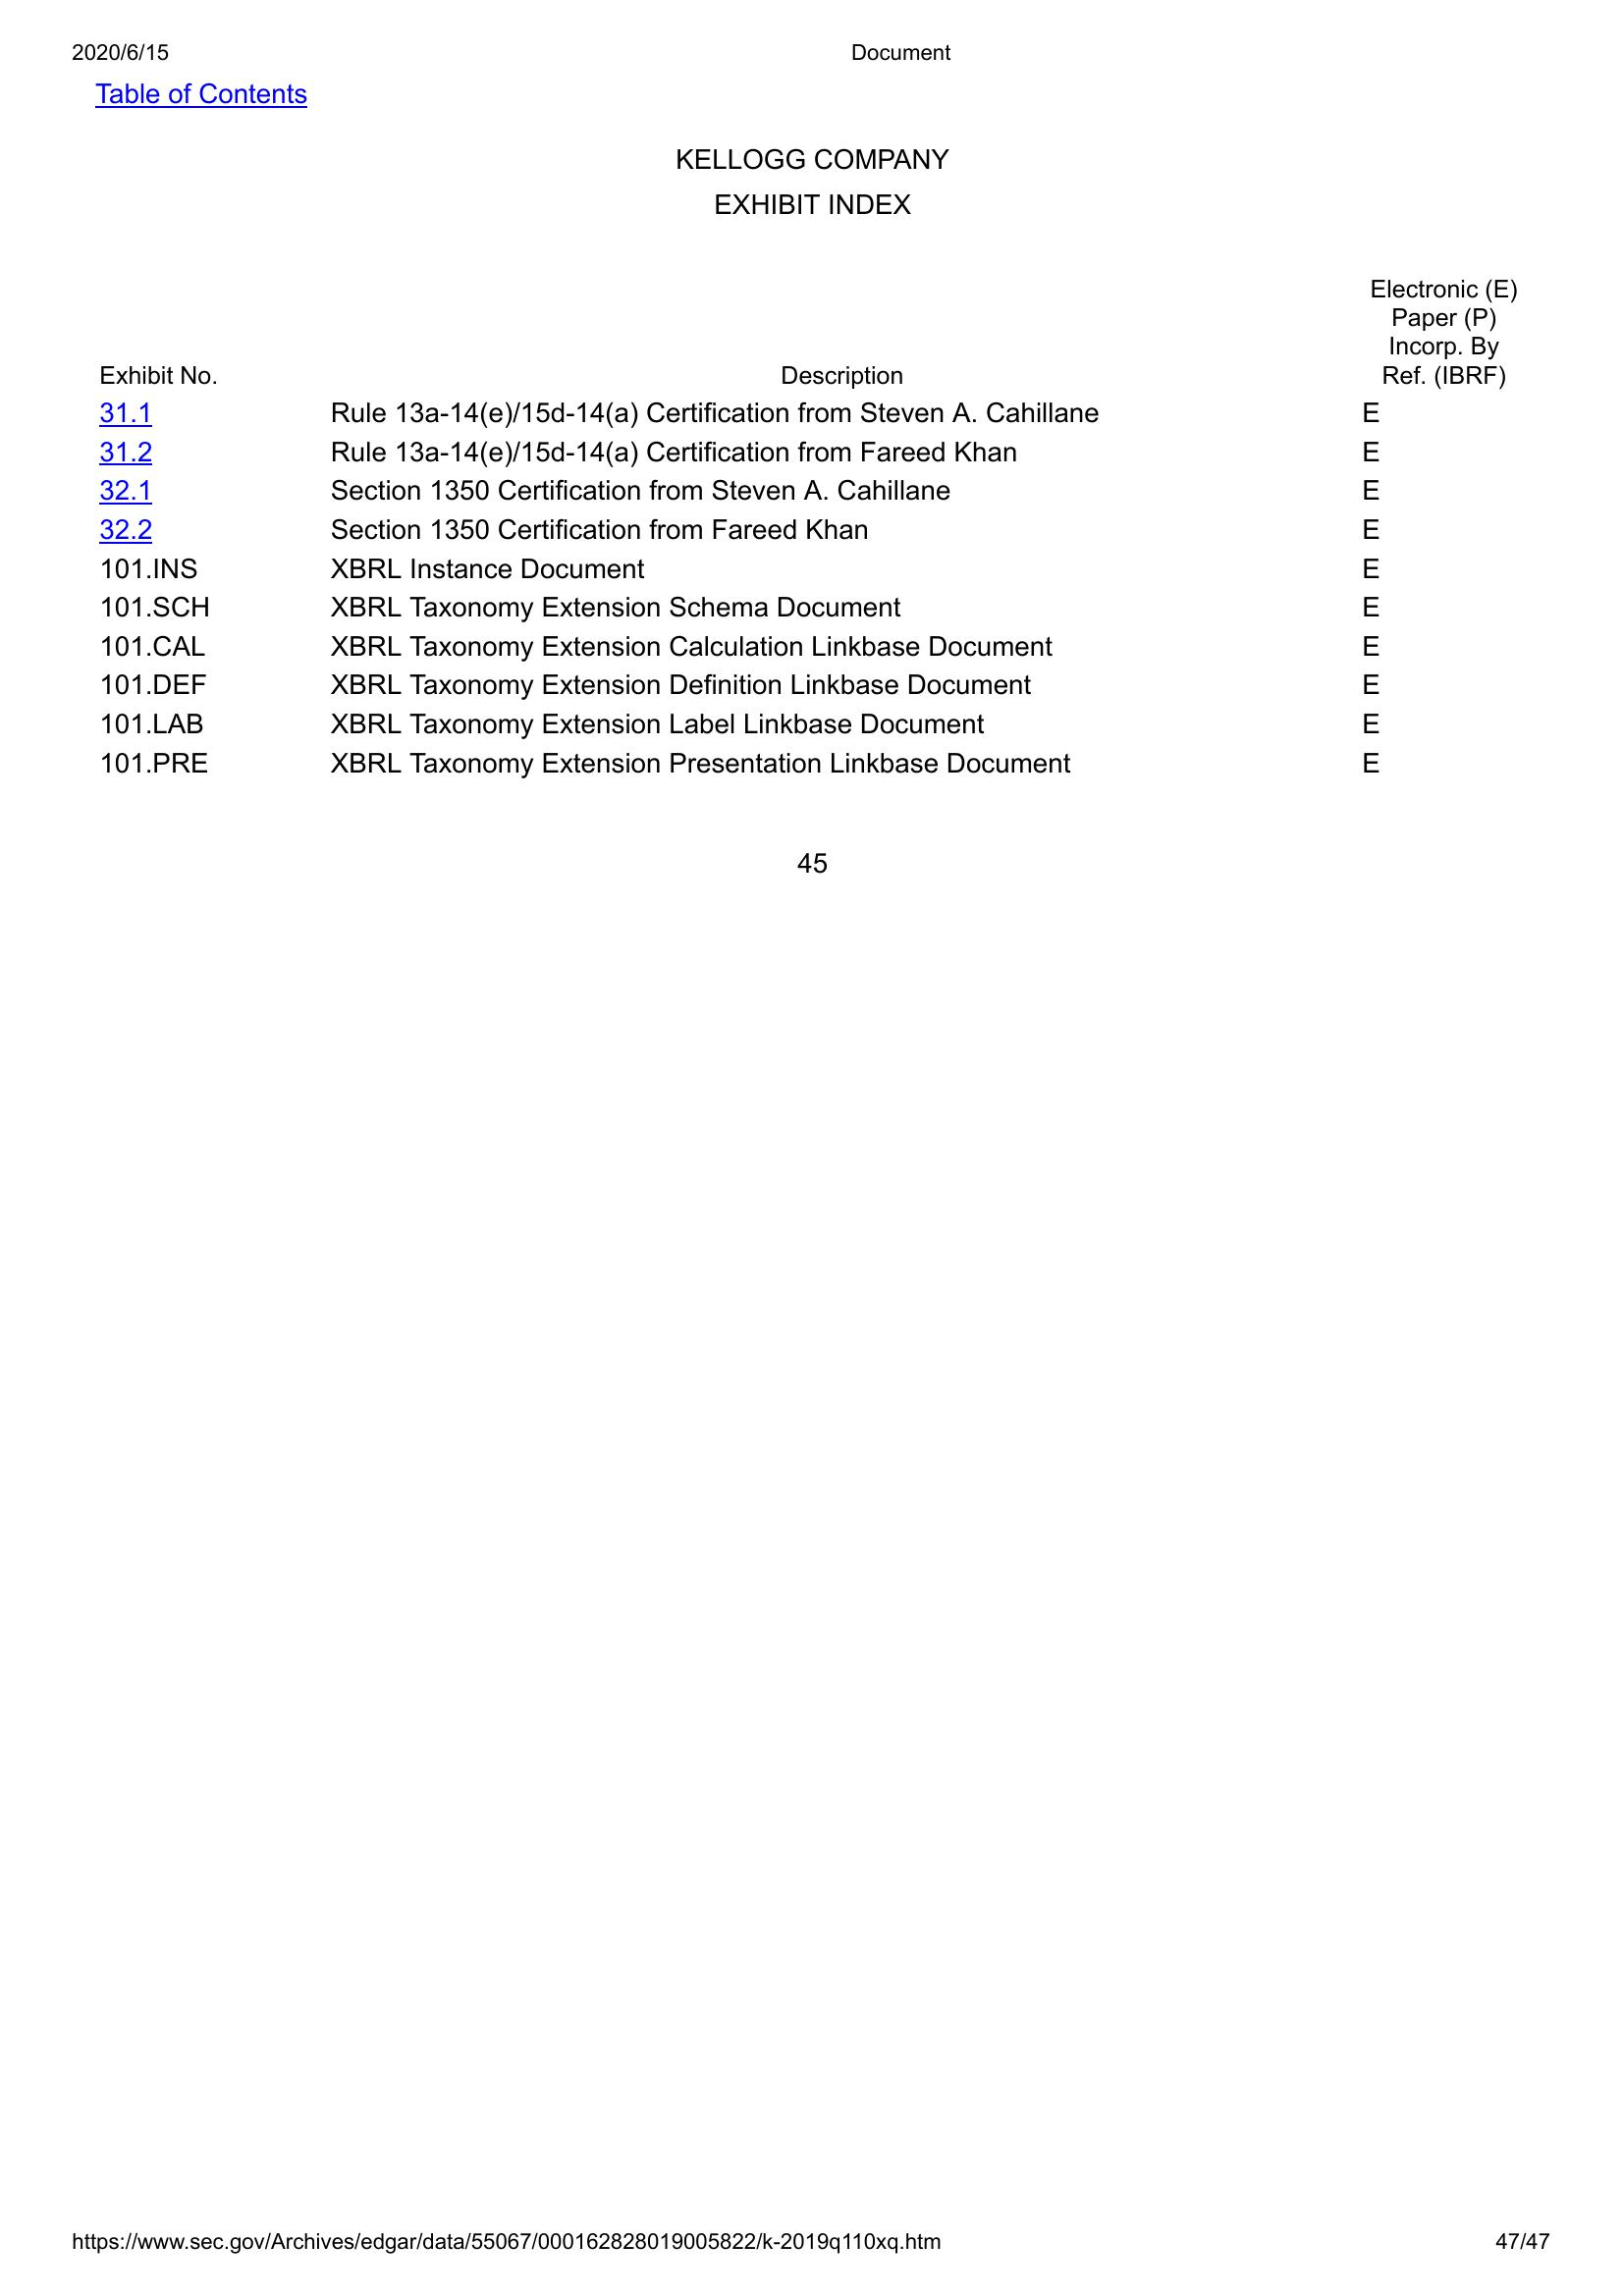table: (95, 270, 1525, 790)
